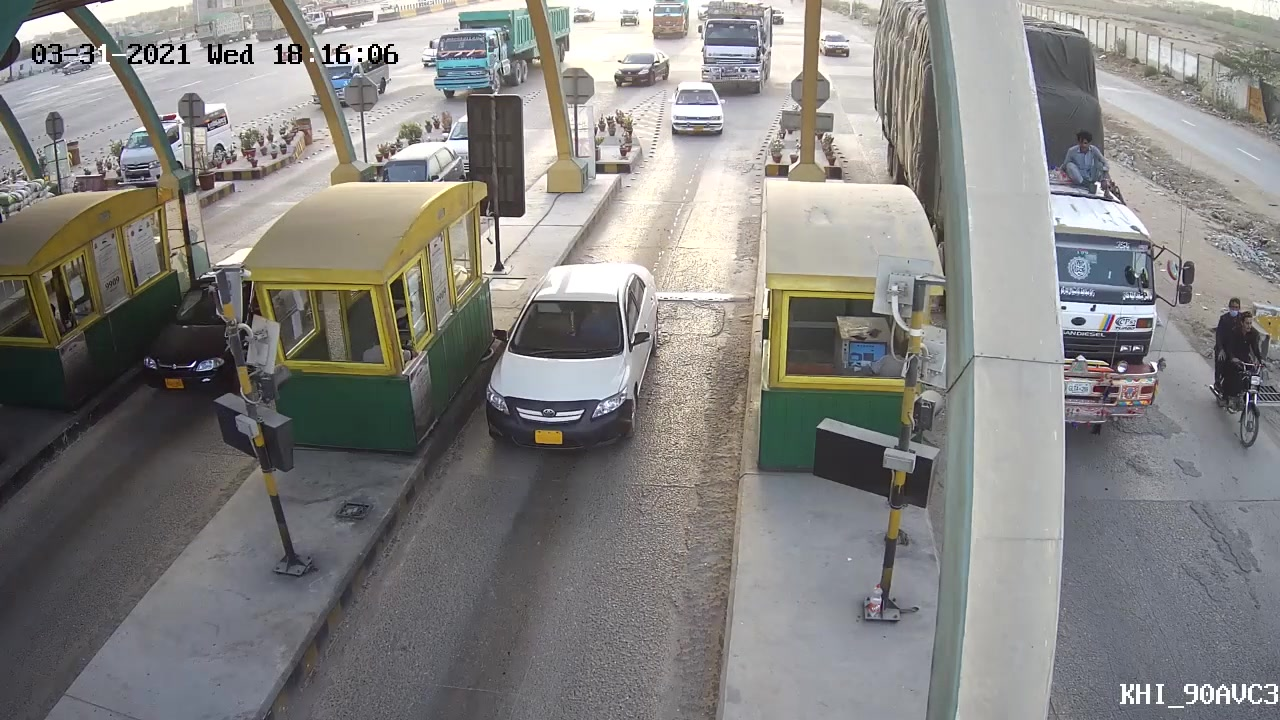F1: (475, 258, 659, 449)
